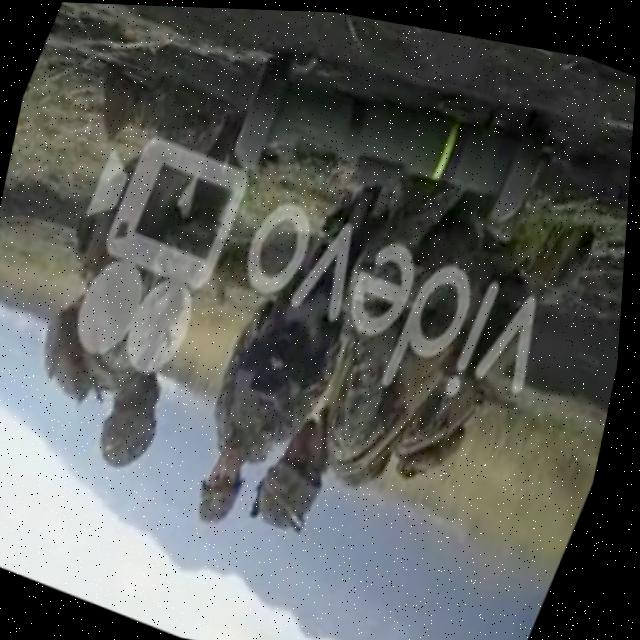rocket: (203, 13, 569, 274)
